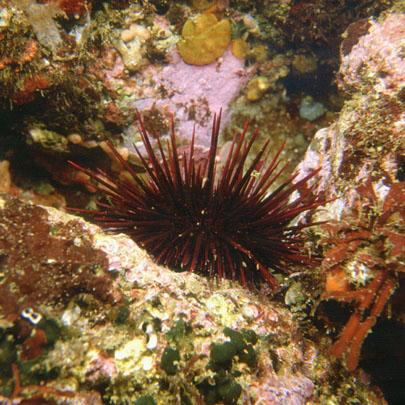urchin: (78, 111, 312, 282)
